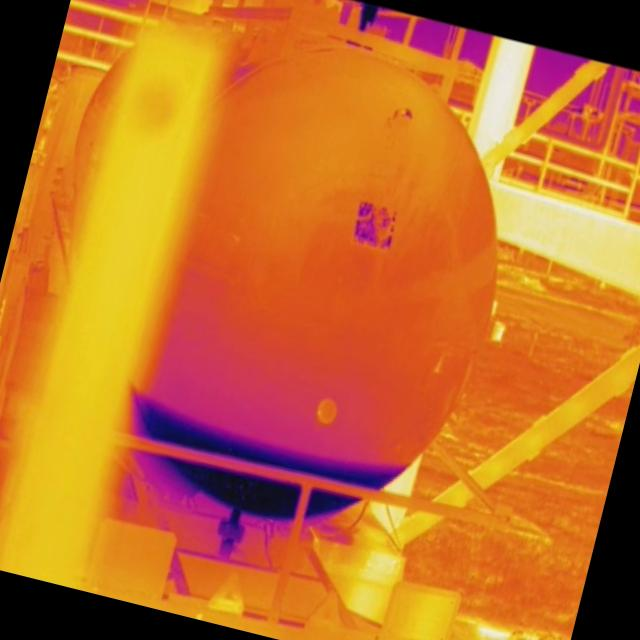tank: (112, 18, 544, 560)
